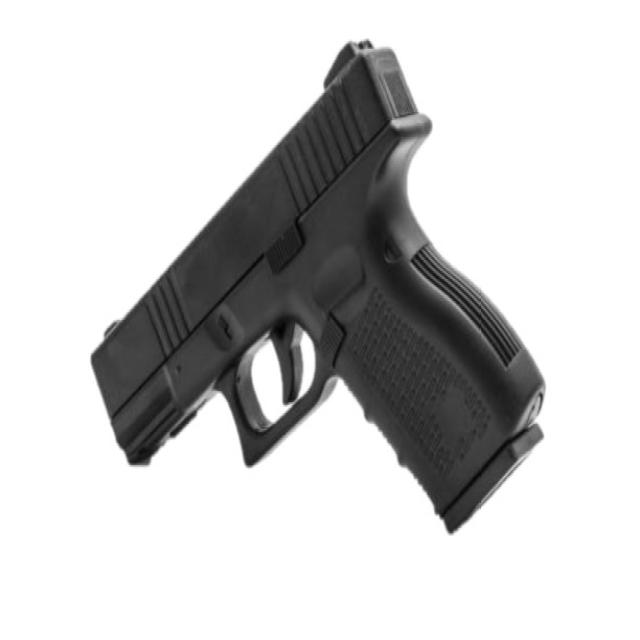pistol: (87, 32, 555, 550)
